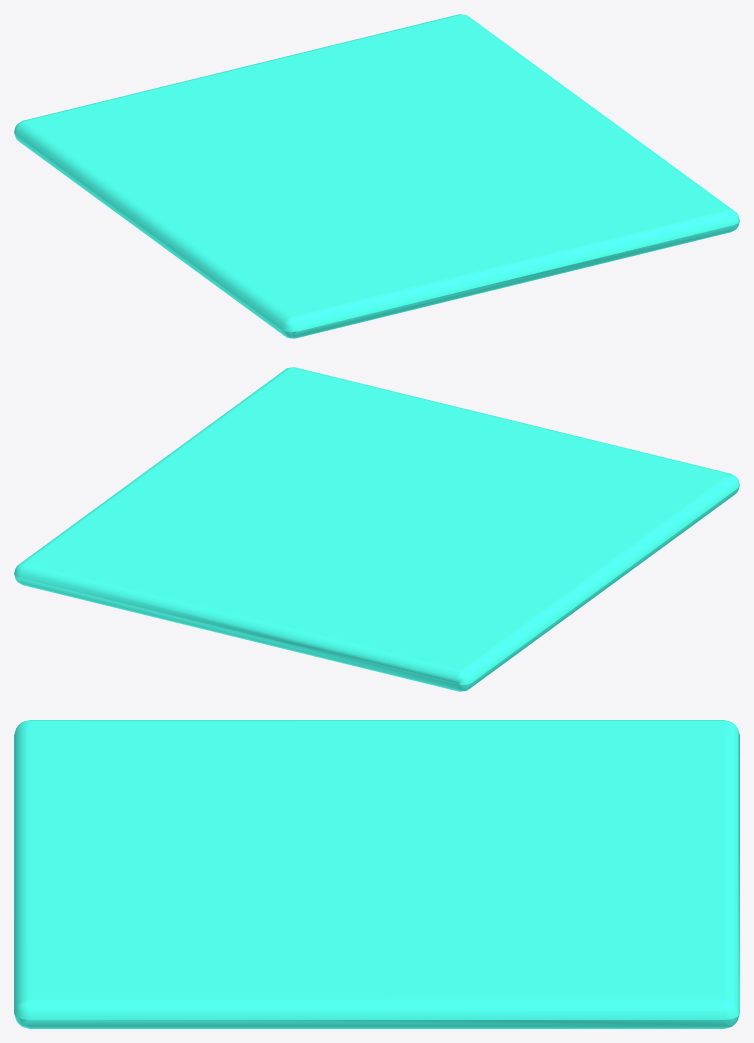
The model's file is SM_EG_Checkout_scanner_glass_bc65ff3eb9.fbx.
3 renders of one model, top to bottom at view 1: azimuth 30°, elevation 25°; view 2: azimuth 150°, elevation 25°; view 3: azimuth 270°, elevation 25°, orthographic. The views are drawn at different scales.
Visible parts, largest first — view 1: SM_EG_Checkout_scanner_glass_bc65ff3eb9; view 2: SM_EG_Checkout_scanner_glass_bc65ff3eb9; view 3: SM_EG_Checkout_scanner_glass_bc65ff3eb9.
Boxes of the visible parts, x1,y1,x2,y2 form: SM_EG_Checkout_scanner_glass_bc65ff3eb9: (14,14,739,338); SM_EG_Checkout_scanner_glass_bc65ff3eb9: (14,367,739,691); SM_EG_Checkout_scanner_glass_bc65ff3eb9: (14,720,739,1028).
Size of what is drawn, in the model's own units: 55 by 58 by 2.5.
